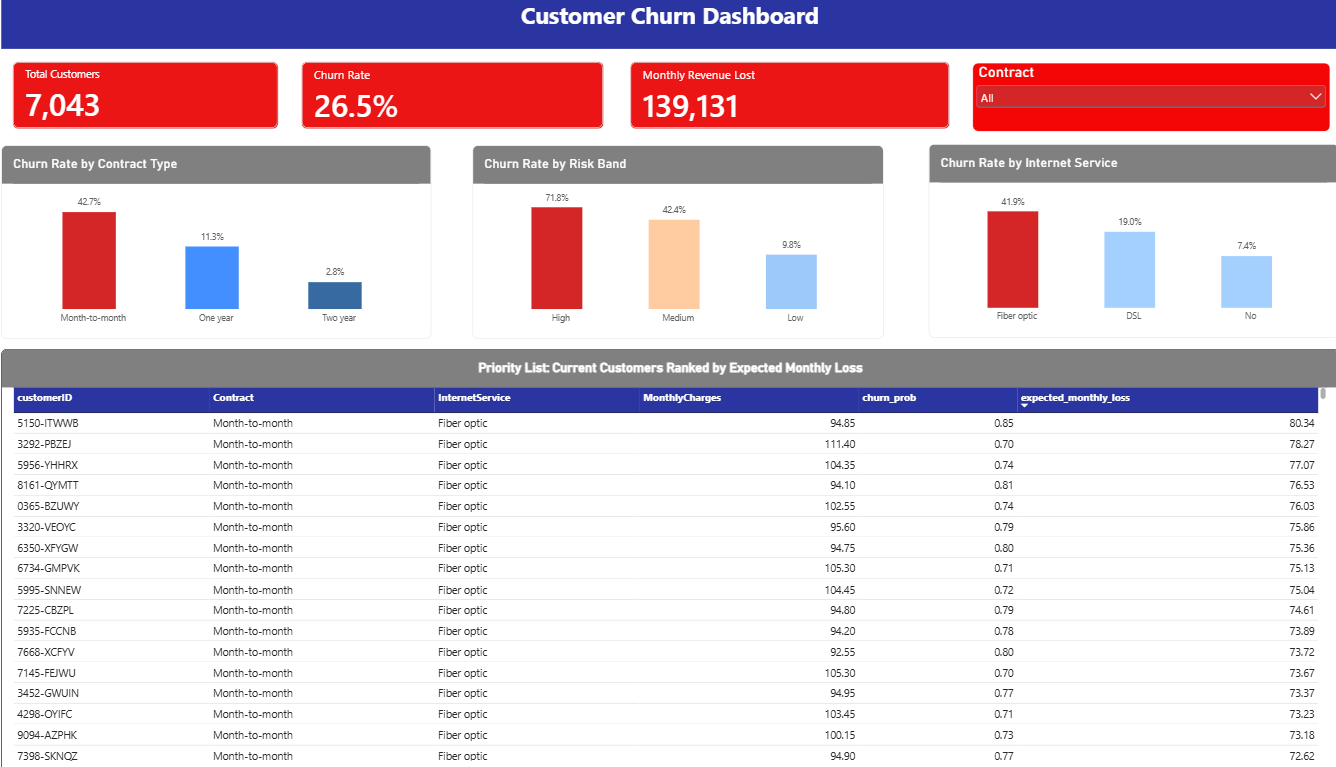

Layout of this report page (visuals, bound fields, positions):
{"tool":"powerbi","page":{"name":"Page 1","canvas":[1920,1080],"ordinal":0},"visuals":[{"type":"textbox","box":[15.7,0,1866.3,69.8],"z":0},{"type":"cardVisual","fields":{"Data":["customers_scored.Total Customers"]},"box":[31.4,87.2,371.5,94.2],"z":1000},{"type":"cardVisual","fields":{"Data":["customers_scored.Churn Rate"]},"box":[434.3,87.2,422.1,94.2],"z":2000},{"type":"cardVisual","fields":{"Data":["customers_scored.Monthly Revenue Lost"]},"box":[893,87.2,446.5,94.2],"z":3000},{"type":"clusteredColumnChart","title":"Churn Rate by Contract Type","fields":{"Category":["customers_scored.Contract"],"Y":["customers_scored.Churn Rate"]},"box":[15.7,204.1,600,270.3],"z":4000},{"type":"clusteredColumnChart","title":"Churn Rate by Risk Band","fields":{"Category":["customers_scored.risk_band"],"Y":["customers_scored.Churn Rate"]},"box":[673.3,204.1,573.8,270.3],"z":4001},{"type":"clusteredColumnChart","title":"Churn Rate by Internet Service","fields":{"Category":["customers_scored.InternetService"],"Y":["customers_scored.Churn Rate"]},"box":[1309.9,202.3,572.1,270.3],"z":4002},{"type":"tableEx","title":"Priority List: Current Customers Ranked by Expected Monthly Loss","fields":{"Values":["customers_scored.customerID","customers_scored.Contract","customers_scored.InternetService","customers_scored.MonthlyCharges","customers_scored.churn_prob","customers_scored.expected_monthly_loss"]},"box":[15.7,488.4,1866.3,591.3],"z":4003},{"type":"slicer","fields":{"Values":["customers_scored.Contract"]},"box":[1370.9,89,498.8,95.9],"z":4004}]}

Visuals, with their boxes in screenshot pixels (x1, y1, x2, y2), scaled from the page's 1920x1080 canvas onto the 1336x767 screenshot:
textbox: detection(11, 0, 1310, 50)
cardVisual - customers_scored.Total Customers: detection(22, 62, 280, 129)
cardVisual - customers_scored.Churn Rate: detection(302, 62, 596, 129)
cardVisual - customers_scored.Monthly Revenue Lost: detection(621, 62, 932, 129)
"Churn Rate by Contract Type" clusteredColumnChart: detection(11, 145, 428, 337)
"Churn Rate by Risk Band" clusteredColumnChart: detection(469, 145, 868, 337)
"Churn Rate by Internet Service" clusteredColumnChart: detection(911, 144, 1310, 336)
"Priority List: Current Customers Ranked by Expected Monthly Loss" tableEx: detection(11, 347, 1310, 766)
slicer - customers_scored.Contract: detection(954, 63, 1301, 131)
